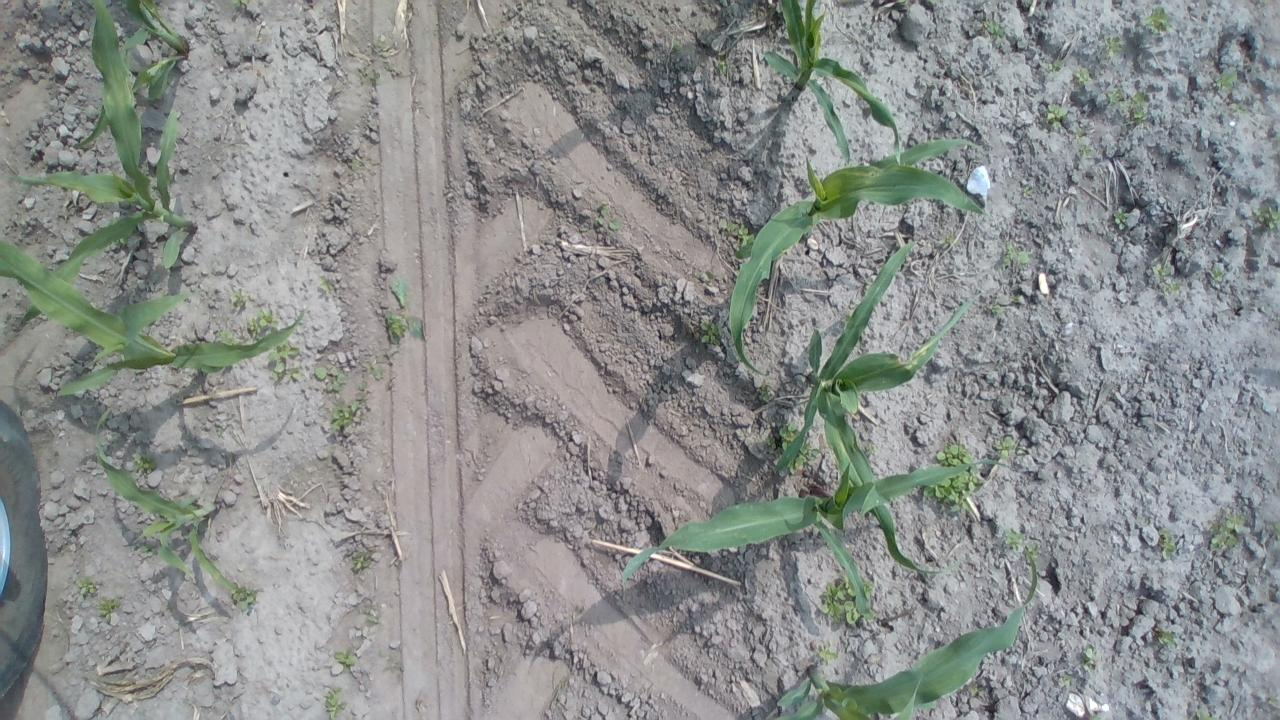Maize: (8, 0, 200, 325), (776, 238, 960, 576), (620, 461, 1008, 621), (731, 138, 989, 377), (0, 233, 305, 400), (776, 547, 1038, 720), (92, 409, 235, 590), (764, 1, 901, 168), (74, 0, 190, 153)
Weeds: (821, 572, 878, 626), (1208, 509, 1250, 556), (920, 482, 984, 512), (330, 380, 367, 430), (578, 202, 624, 230), (363, 350, 398, 382), (230, 580, 260, 616), (1142, 4, 1175, 36), (316, 362, 347, 394), (1122, 90, 1148, 126), (247, 306, 280, 334), (933, 441, 971, 465), (323, 686, 348, 720), (1078, 640, 1100, 678), (1000, 243, 1030, 270), (1152, 624, 1185, 648), (389, 270, 409, 308), (1251, 204, 1280, 230), (696, 318, 724, 344), (1044, 101, 1068, 131), (1157, 525, 1177, 560), (96, 596, 122, 622), (996, 522, 1024, 545), (385, 312, 405, 344), (356, 63, 381, 88), (993, 436, 1017, 461), (350, 548, 374, 572), (271, 363, 303, 381), (405, 315, 428, 340), (779, 422, 799, 450), (1212, 70, 1240, 90), (135, 452, 158, 476), (268, 344, 298, 362), (228, 288, 248, 315), (334, 645, 357, 668), (1106, 84, 1126, 106), (74, 576, 98, 594), (1113, 206, 1130, 231), (1040, 58, 1066, 74), (958, 468, 984, 484), (1106, 35, 1124, 58), (373, 35, 391, 58), (1073, 66, 1093, 86), (982, 19, 1004, 37), (818, 648, 838, 666), (318, 274, 336, 294), (756, 380, 772, 402), (1162, 281, 1182, 298), (982, 302, 1006, 316), (364, 601, 378, 625), (1150, 263, 1172, 278), (220, 328, 238, 346), (738, 220, 752, 242), (1230, 98, 1247, 116), (801, 444, 820, 460), (762, 432, 778, 450), (788, 456, 802, 476), (1028, 540, 1042, 560), (1056, 674, 1072, 690), (1194, 708, 1214, 720), (382, 61, 397, 77), (721, 218, 738, 232), (1211, 266, 1222, 284), (1080, 142, 1092, 158), (716, 60, 731, 72), (966, 682, 978, 697), (1267, 522, 1280, 535), (946, 234, 958, 248), (1268, 692, 1278, 708), (352, 158, 362, 172), (1021, 183, 1030, 198), (672, 39, 683, 51), (865, 442, 876, 454), (232, 0, 248, 7), (1073, 132, 1084, 142), (1012, 294, 1022, 304), (706, 270, 716, 279), (640, 52, 648, 58)
